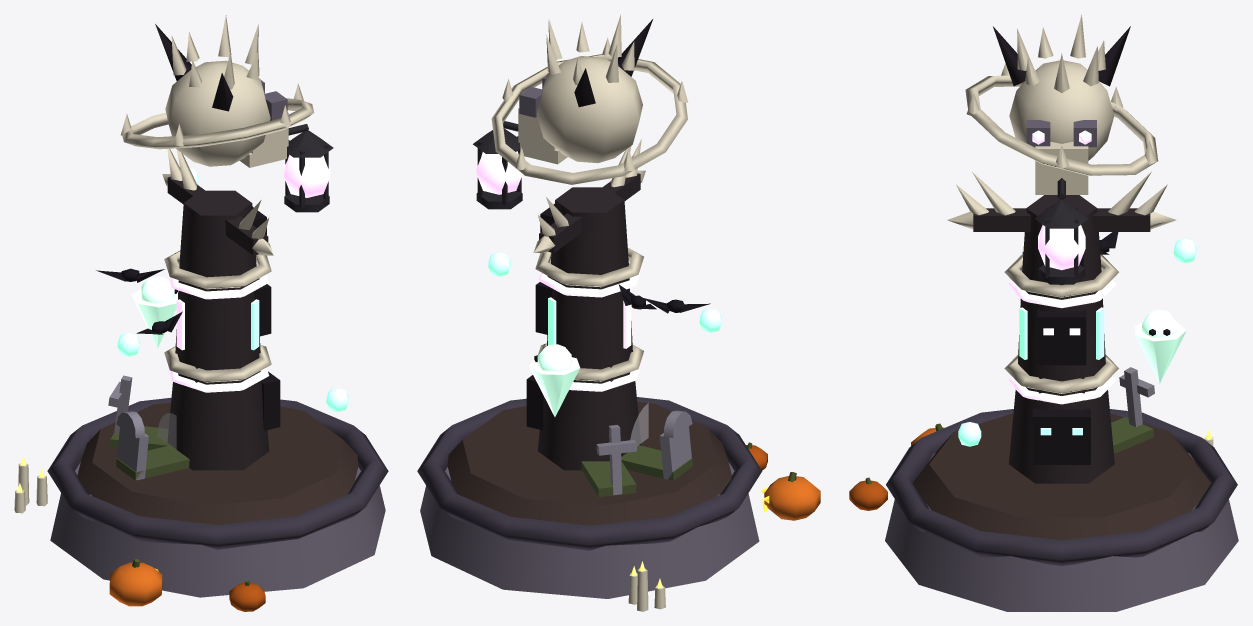
The model's file is tower_necromancer_soulLord.glb.
3 renders of one model, left to right at view 1: azimuth 30°, elevation 25°; view 2: azimuth 150°, elevation 25°; view 3: azimuth 270°, elevation 25°, orthographic. The views are drawn at different scales.
Parts seen in each view (by area): view 1: grave_soil, base, base_rim, pole_0, skull_cranium, pole_1, pole_2, bone_orbit, deco_hw_jack_body, bone_ring_1, bone_ring_0, core_halo (+18 smaller); view 2: grave_soil, base, base_rim, skull_cranium, pole_0, pole_2, pole_1, bone_orbit, deco_hw_jack_body, bone_ring_1, deco_hw_ghost_sheet, core_halo (+18 smaller); view 3: grave_soil, base, base_rim, skull_cranium, pole_0, bone_orbit, pole_1, pole_face_0, pole_2, pole_face_1, crossbar, bone_ring_1 (+17 smaller).
Part boxes in pixels (x1=…): grave_soil: x1=77, y1=402, x2=358, y2=524; base: x1=50, y1=462, x2=385, y2=597; base_rim: x1=47, y1=397, x2=388, y2=549; pole_0: x1=167, y1=371, x2=269, y2=470; skull_cranium: x1=165, y1=60, x2=270, y2=166; pole_1: x1=175, y1=265, x2=260, y2=370; pole_2: x1=179, y1=190, x2=256, y2=277; bone_orbit: x1=122, y1=98, x2=314, y2=149; deco_hw_jack_body: x1=109, y1=562, x2=162, y2=606; bone_ring_1: x1=164, y1=250, x2=271, y2=289; bone_ring_0: x1=164, y1=344, x2=271, y2=382; core_halo: x1=284, y1=155, x2=330, y2=197; grave_soil: x1=447, y1=402, x2=731, y2=525; base: x1=420, y1=462, x2=759, y2=598; base_rim: x1=417, y1=397, x2=762, y2=550; skull_cranium: x1=536, y1=56, x2=642, y2=163; pole_0: x1=538, y1=372, x2=641, y2=470; pole_2: x1=550, y1=187, x2=628, y2=274; pole_1: x1=547, y1=263, x2=632, y2=369; bone_orbit: x1=491, y1=54, x2=687, y2=184; deco_hw_jack_body: x1=764, y1=476, x2=820, y2=520; bone_ring_1: x1=535, y1=248, x2=643, y2=287; deco_hw_ghost_sheet: x1=529, y1=357, x2=580, y2=416; core_halo: x1=476, y1=151, x2=522, y2=194; grave_soil: x1=912, y1=413, x2=1210, y2=540; base: x1=885, y1=453, x2=1238, y2=611; base_rim: x1=886, y1=409, x2=1237, y2=565; skull_cranium: x1=1009, y1=60, x2=1114, y2=160; pole_0: x1=1009, y1=387, x2=1114, y2=483; bone_orbit: x1=965, y1=75, x2=1158, y2=175; pole_1: x1=1018, y1=274, x2=1105, y2=381; pole_face_0: x1=1032, y1=408, x2=1090, y2=464; pole_2: x1=1022, y1=195, x2=1101, y2=285; pole_face_1: x1=1037, y1=309, x2=1086, y2=365; crossbar: x1=973, y1=208, x2=1150, y2=231; bone_ring_1: x1=1004, y1=254, x2=1118, y2=297.
Size of the model in its own units: 0.4215 by 0.634 by 0.4404.
